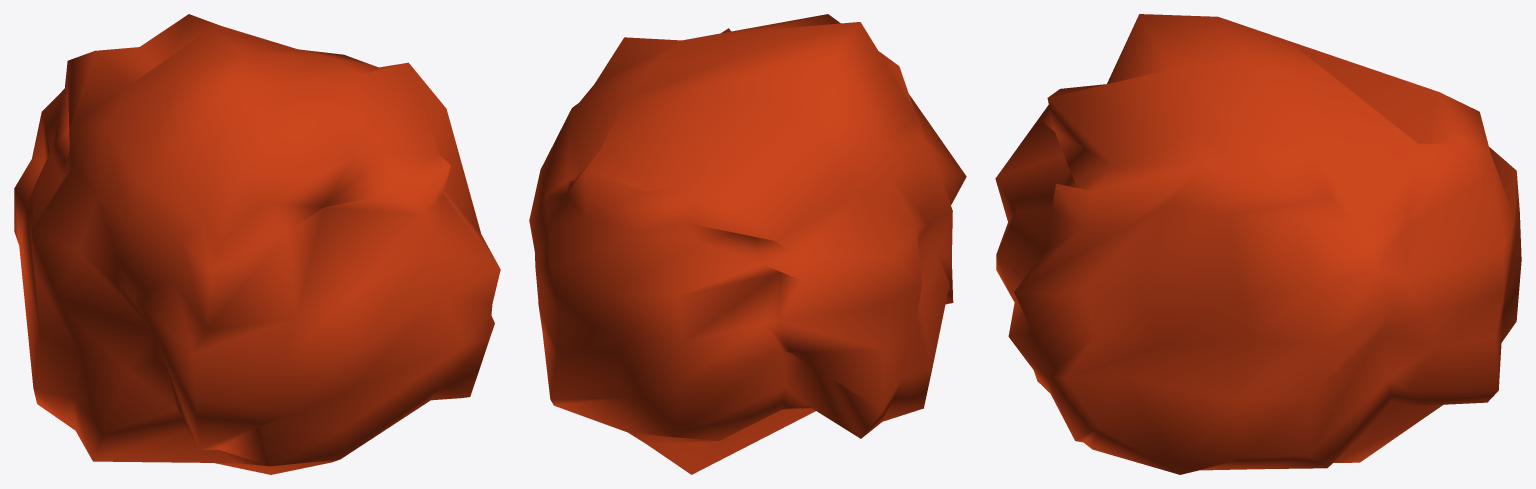
The model's file is bolavulcao.FBX.
The picture shows the model from 3 angles, left to right: view 1: azimuth 30°, elevation 25°; view 2: azimuth 150°, elevation 25°; view 3: azimuth 270°, elevation 25°; orthographic projection. The views are drawn at different scales.
Parts seen in each view (by area): view 1: Box001; view 2: Box001; view 3: Box001.
Part boxes in pixels (x1,y1,x2,y2): Box001: (14,14,500,474); Box001: (529,14,966,474); Box001: (995,14,1521,474).
Bounding box in the file's own units: 4.07 × 4.23 × 4.86.
